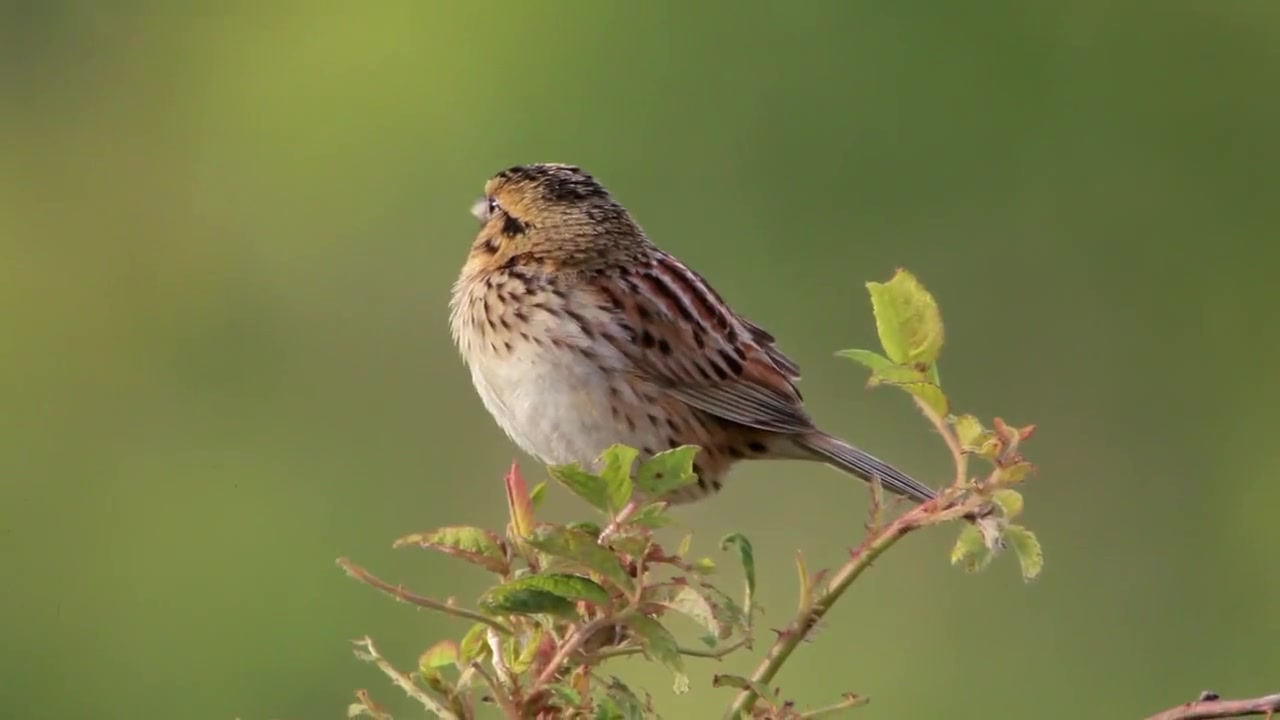bird: (447, 163, 943, 528)
